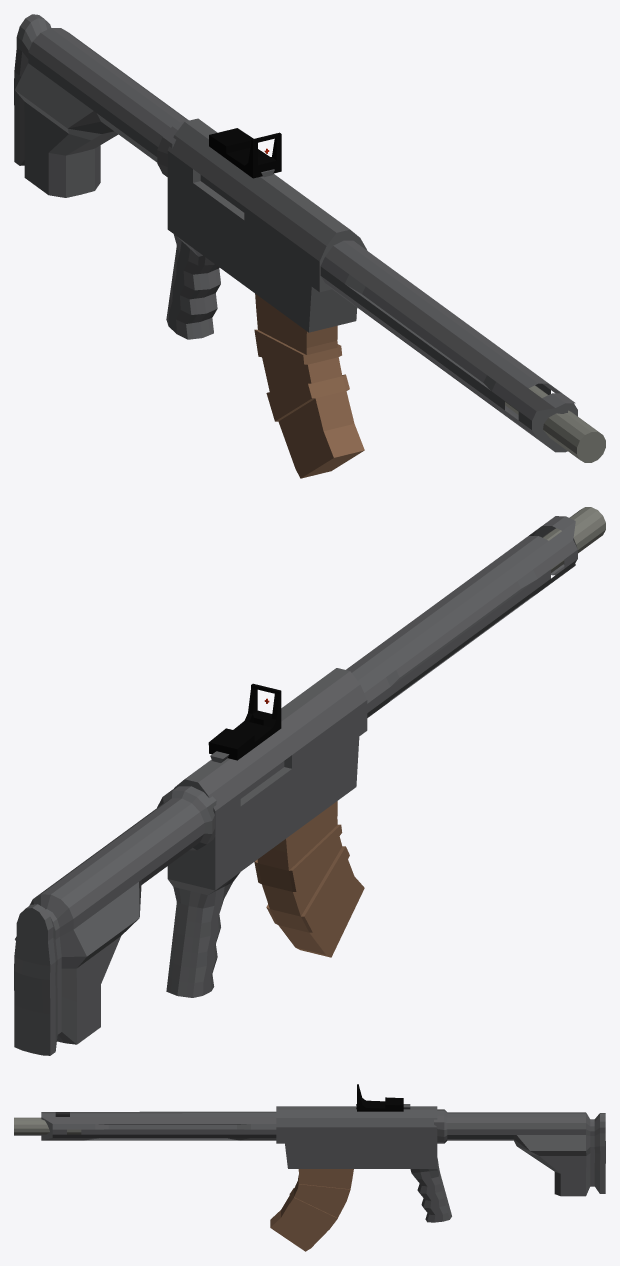
3 views of the same model, one above another, from view 1: azimuth 30°, elevation 25°; view 2: azimuth 150°, elevation 25°; view 3: azimuth 270°, elevation 25° (orthographic). The views are drawn at different scales.
Parts seen in each view (by area): view 1: Куб.001, Куб; view 2: Куб.001, Куб; view 3: Куб.001, Куб.
Part boxes in pixels (<box>): Куб.001: <box>14,14,605,462</box>; Куб: <box>254,293,364,478</box>; Куб.001: <box>14,507,605,1055</box>; Куб: <box>254,801,364,957</box>; Куб.001: <box>14,1084,605,1222</box>; Куб: <box>270,1169,353,1251</box>.
Bounding box in the file's own units: 190 × 761 × 2555.
